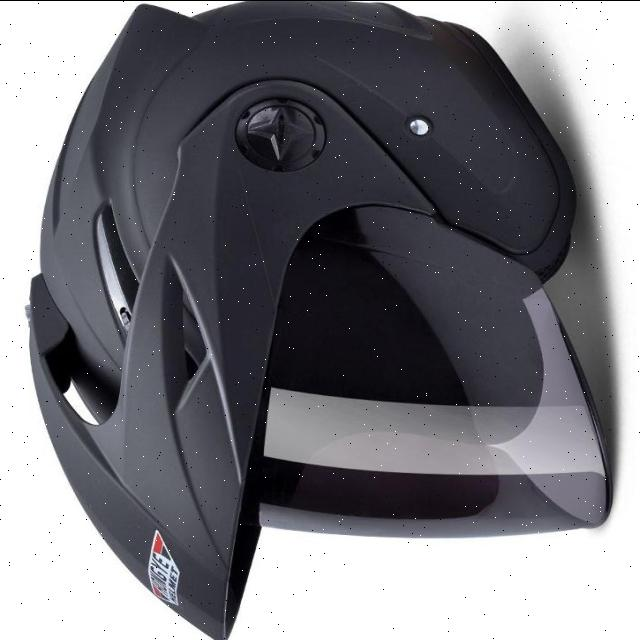Helmet: (26, 0, 618, 640)
